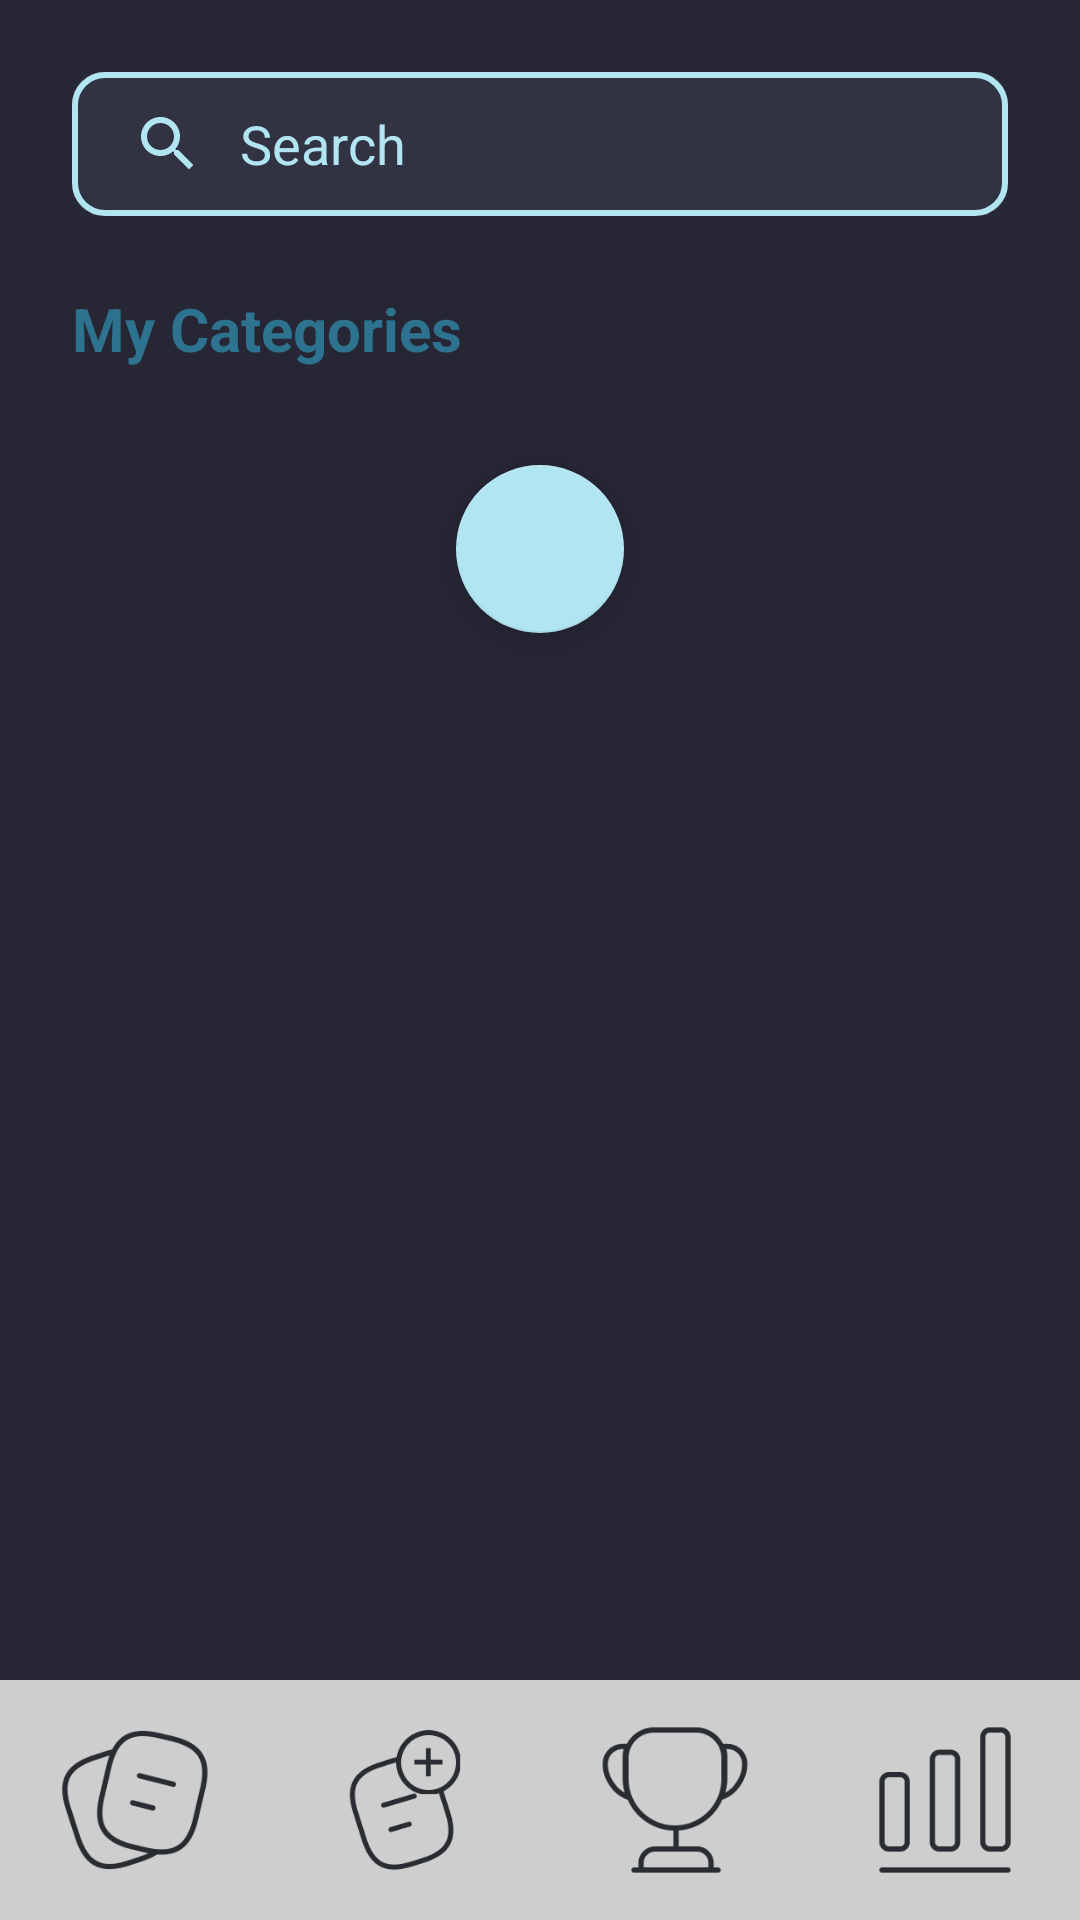

Where to tap for icons on this 1080×1920 app screen, as [x,y]:
stats: [945,1800]
